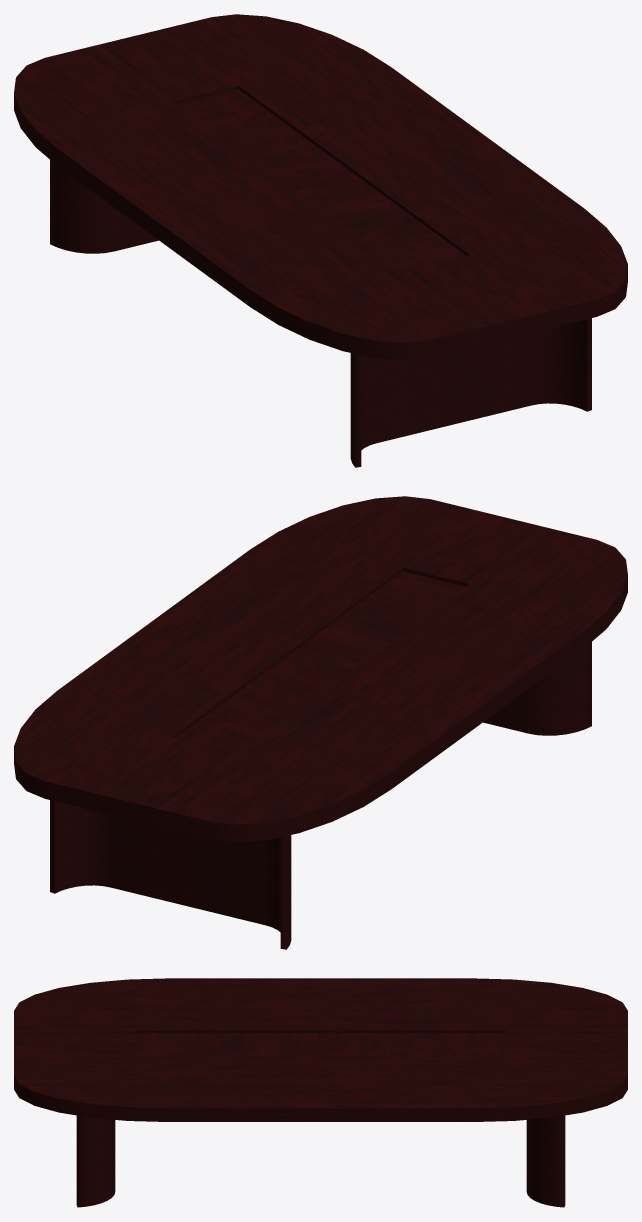
Rendered from round_table.glb.
3 views of the same model, one above another, from view 1: azimuth 30°, elevation 25°; view 2: azimuth 150°, elevation 25°; view 3: azimuth 270°, elevation 25° (orthographic). The views are drawn at different scales.
Visible parts, largest first — view 1: round_table; view 2: round_table; view 3: round_table.
Part boxes in pixels (x1=…): round_table: x1=14, y1=14, x2=627, y2=467; round_table: x1=14, y1=496, x2=627, y2=949; round_table: x1=14, y1=978, x2=627, y2=1207.
Size of the model in its own units: 1.8 by 0.765 by 3.6.
Materials: 1 (1 with a texture image).
